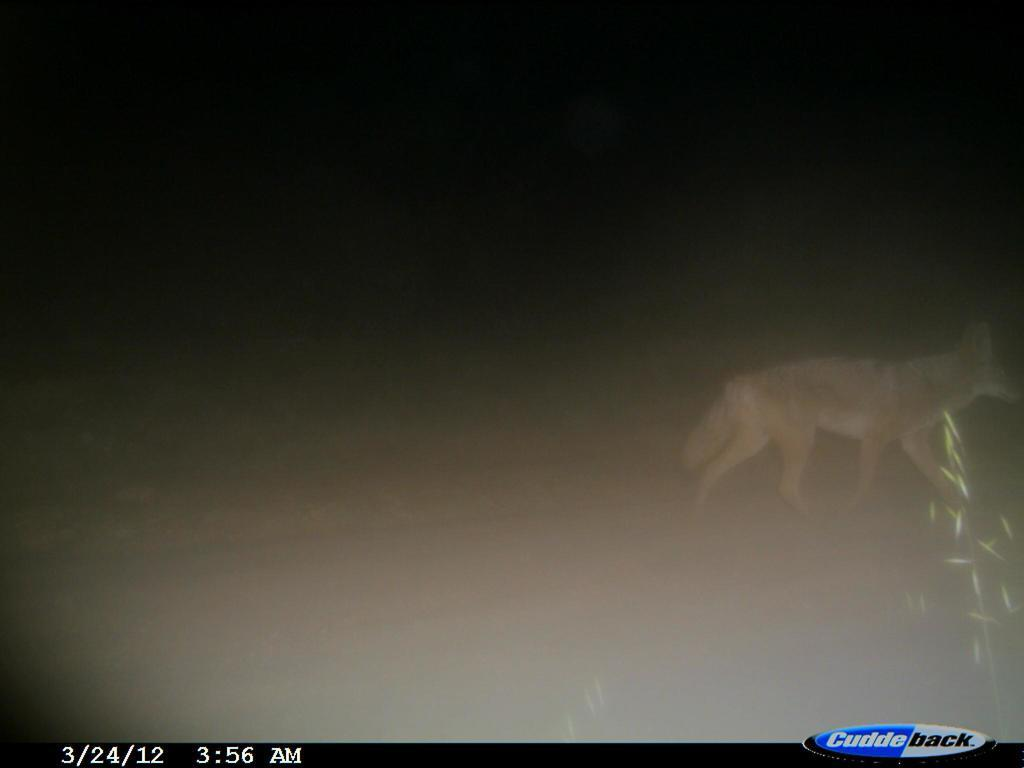coyote: (667, 323, 1021, 523)
